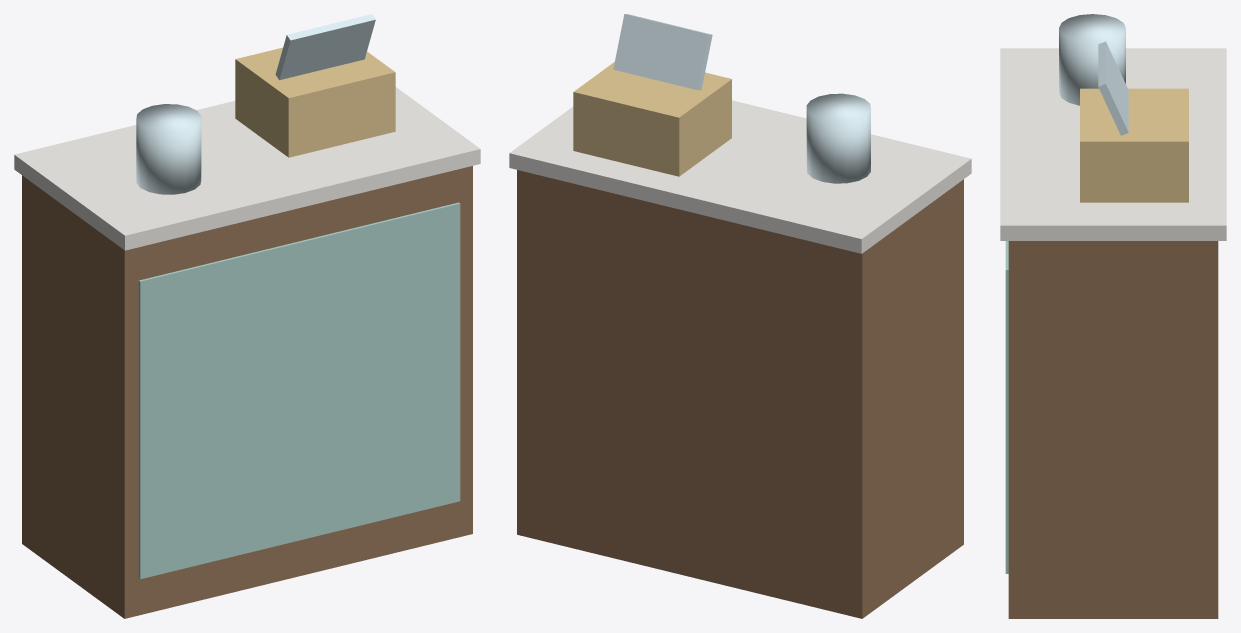
Rendered from register.glb.
The picture shows the model from 3 angles, left to right: view 1: azimuth 30°, elevation 25°; view 2: azimuth 150°, elevation 25°; view 3: azimuth 270°, elevation 25°; orthographic projection. The views are drawn at different scales.
Visible parts, largest first — view 1: register; view 2: register; view 3: register.
Part boxes in pixels (left/top/right/bottom): register: left=14, top=14, right=480, bottom=618; register: left=509, top=14, right=971, bottom=618; register: left=1000, top=14, right=1226, bottom=618.
Size of the model in its own units: 1 by 1.34 by 0.54.
